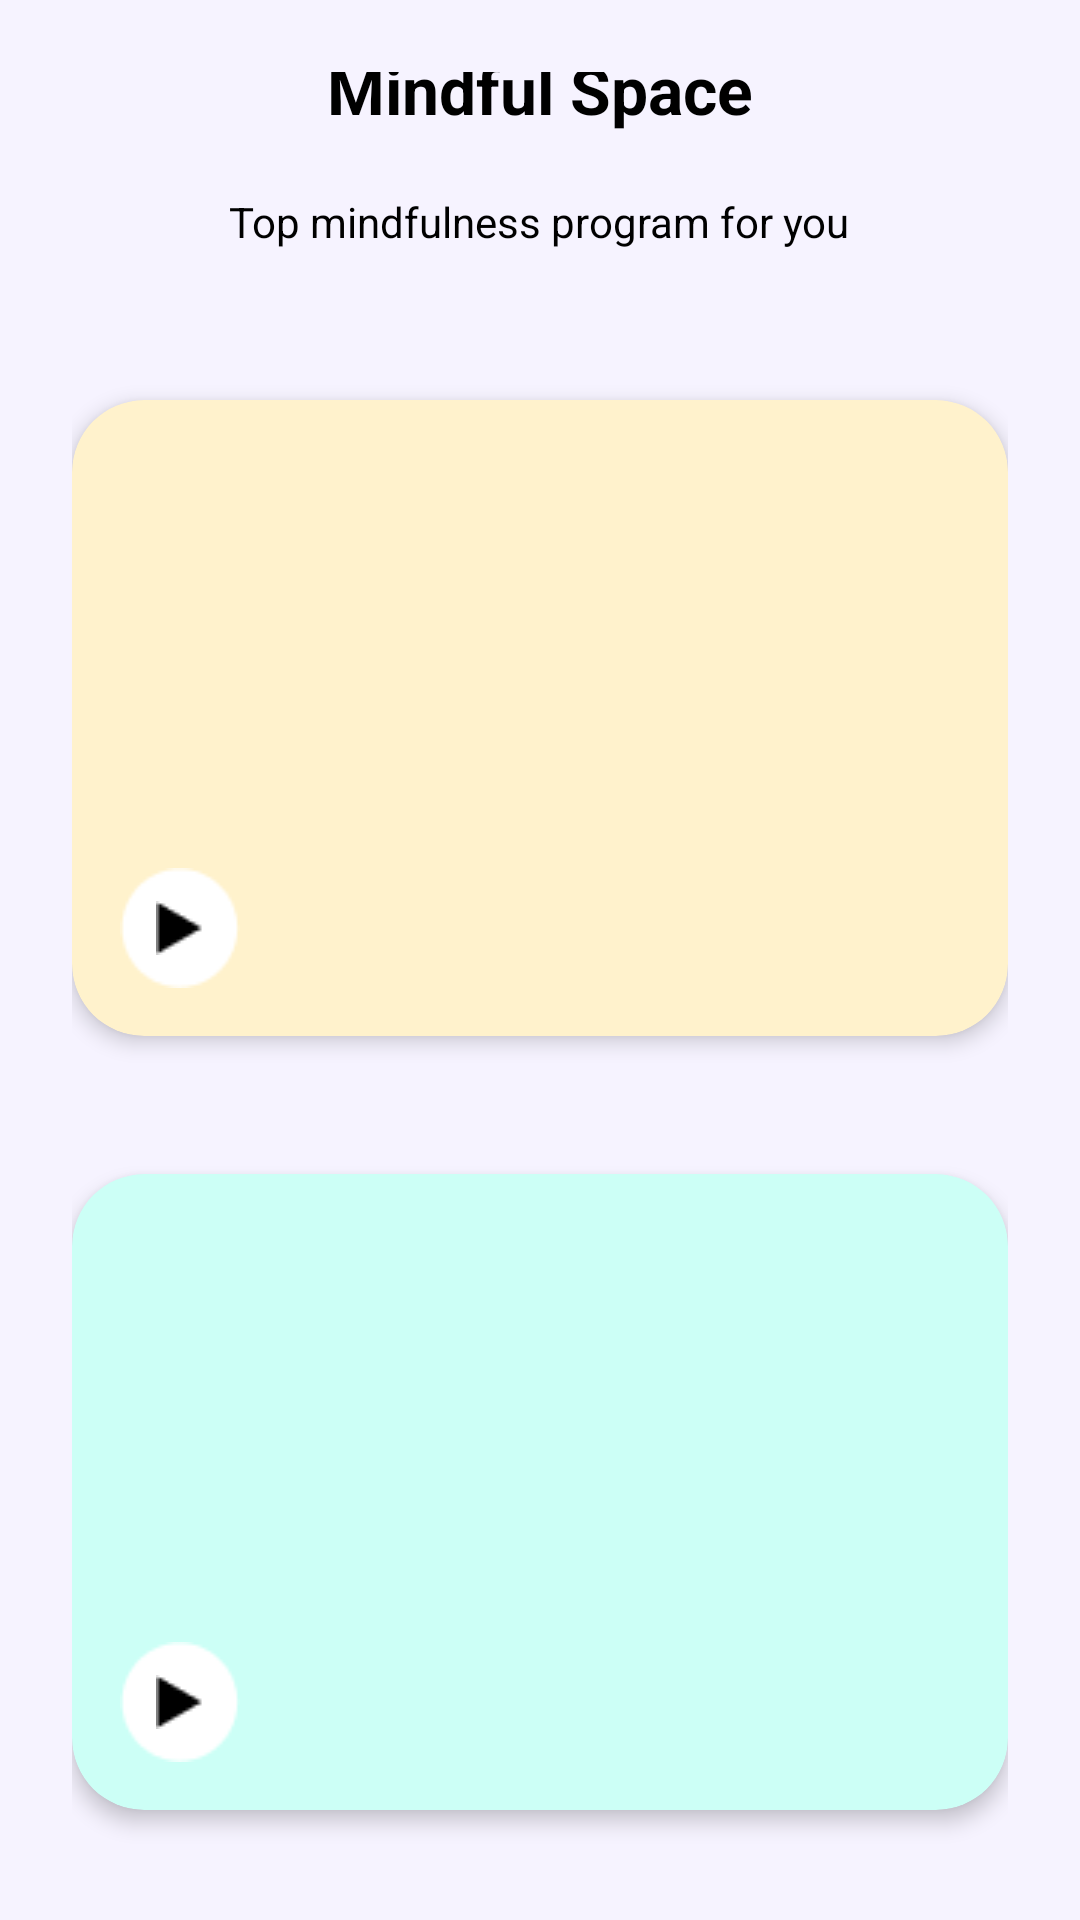

Named icons in this screenshot (1080x1920) and their bounding boxes, [left=x1, top=y1, right=x2, bottom=y2]:
Play: [left=122, top=868, right=237, bottom=988], [left=122, top=1642, right=237, bottom=1762]
